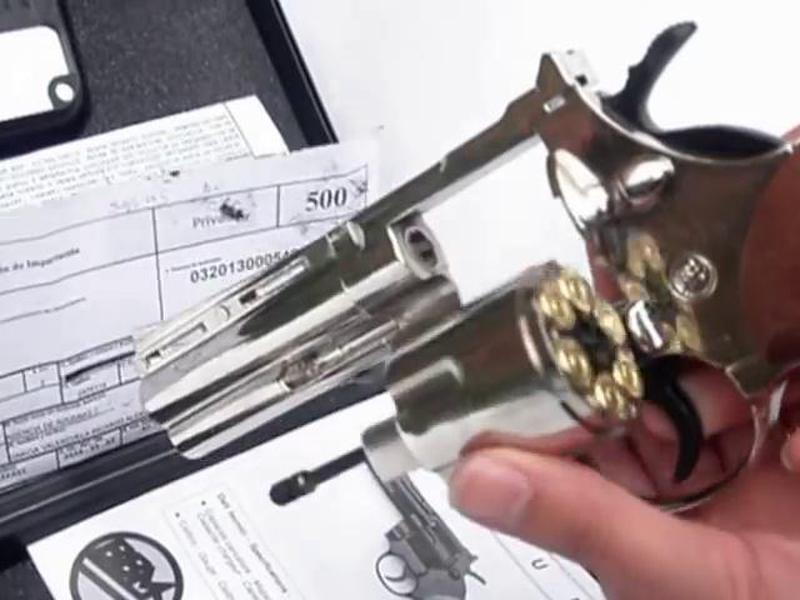Revolver: (106, 47, 800, 474)
